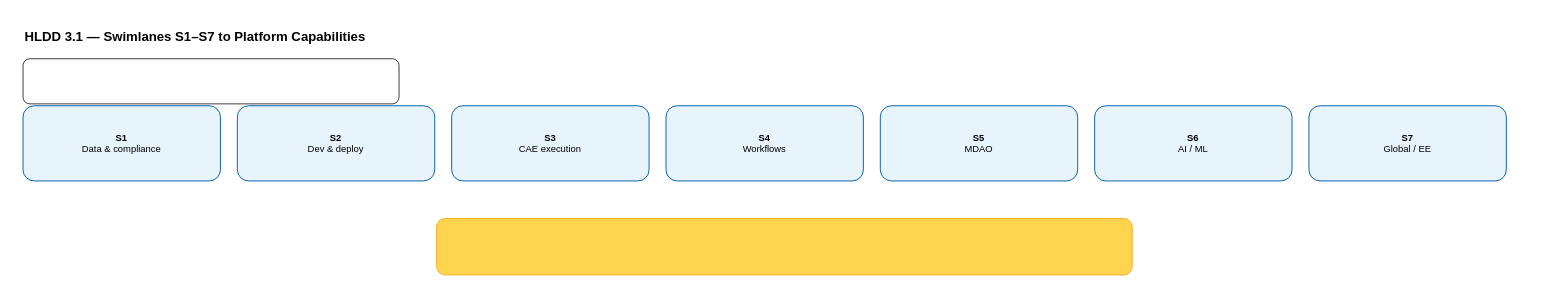
Some shapes in this 1562 by 291 pixel diagram are drawn without their labels. The shapes that lost their labels are listed below. From the top down, each one's box as (x1, y1, x2, y2) in pixels, then its label:
(22, 58, 399, 104): Light blue = swimlane focus | Gold = shared spine (C1–C7)
(436, 218, 1132, 275): Shared spine Refs · MDAC · Execution · Run ID · Runtime · Session
